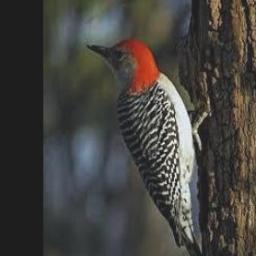Woodpecker: (87, 38, 206, 256)
